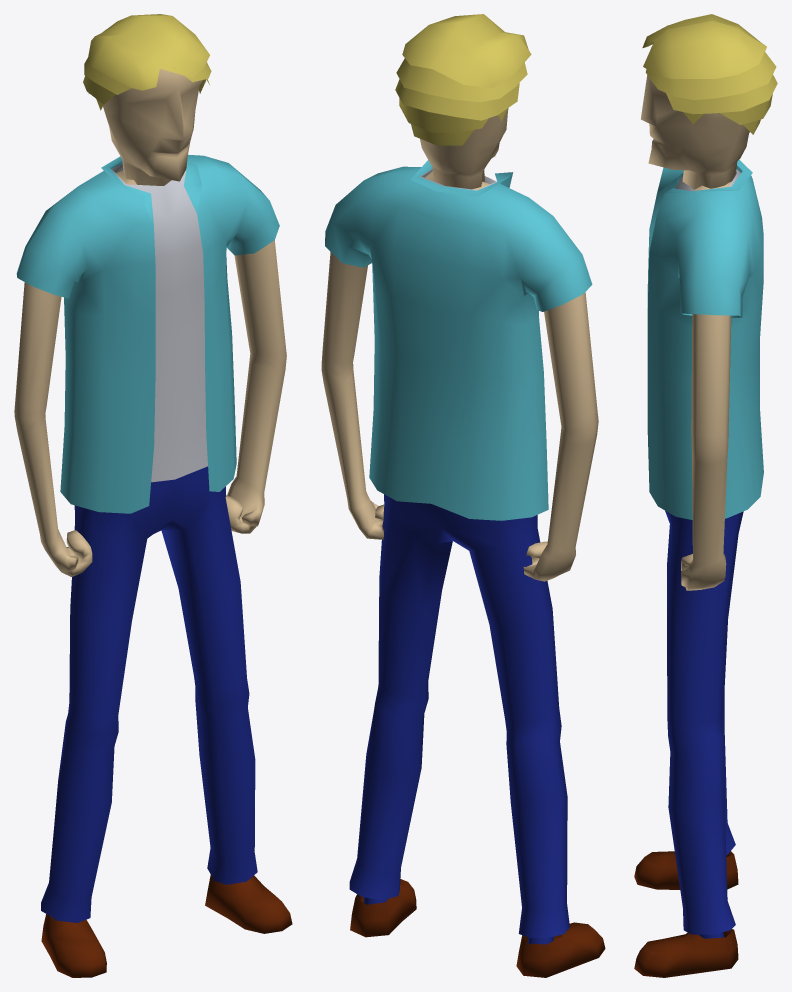
File: ivo.fbx
3 renders of one model, left to right at view 1: azimuth 30°, elevation 25°; view 2: azimuth 150°, elevation 25°; view 3: azimuth 270°, elevation 25°, orthographic. The views are drawn at different scales.
Parts seen in each view (by area): view 1: Pants, Pants.001, Pants.003, Pants.002, Cube.002, Cube.003, Shoes; view 2: Pants.001, Pants, Pants.003, Cube.003, Shoes, Cube.002; view 3: Pants.001, Pants, Cube.003, Pants.003, Cube.002, Shoes.
Part boxes in pixels (x1,y1,x2,y2): Pants: (41, 466, 257, 922); Pants.001: (16, 154, 279, 513); Pants.003: (14, 240, 286, 576); Pants.002: (111, 164, 207, 482); Cube.002: (103, 69, 202, 185); Cube.003: (83, 14, 211, 110); Shoes: (41, 875, 292, 977); Pants.001: (325, 160, 592, 520); Pants: (349, 494, 569, 937); Pants.003: (321, 252, 598, 581); Cube.003: (395, 14, 531, 145); Shoes: (350, 879, 605, 977); Cube.002: (420, 108, 508, 189); Pants.001: (647, 159, 763, 519); Pants: (665, 510, 743, 934); Cube.003: (642, 14, 777, 134); Pants.003: (681, 314, 731, 590); Cube.002: (641, 75, 749, 189); Shoes: (634, 851, 738, 977).
Size of the model in its own units: 190 by 618 by 89.28.
